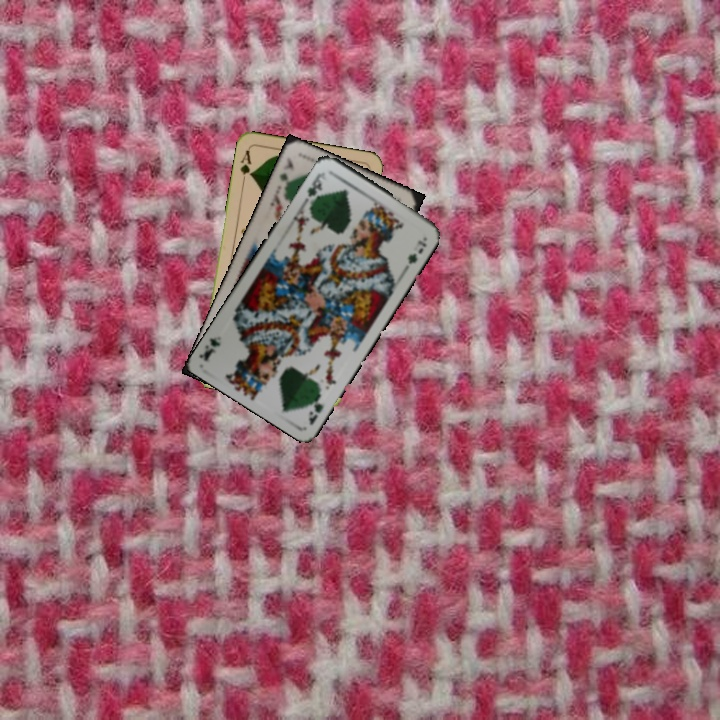GA: (236, 146, 254, 186)
GK: (303, 168, 329, 206), (304, 387, 326, 428), (275, 154, 297, 194)
